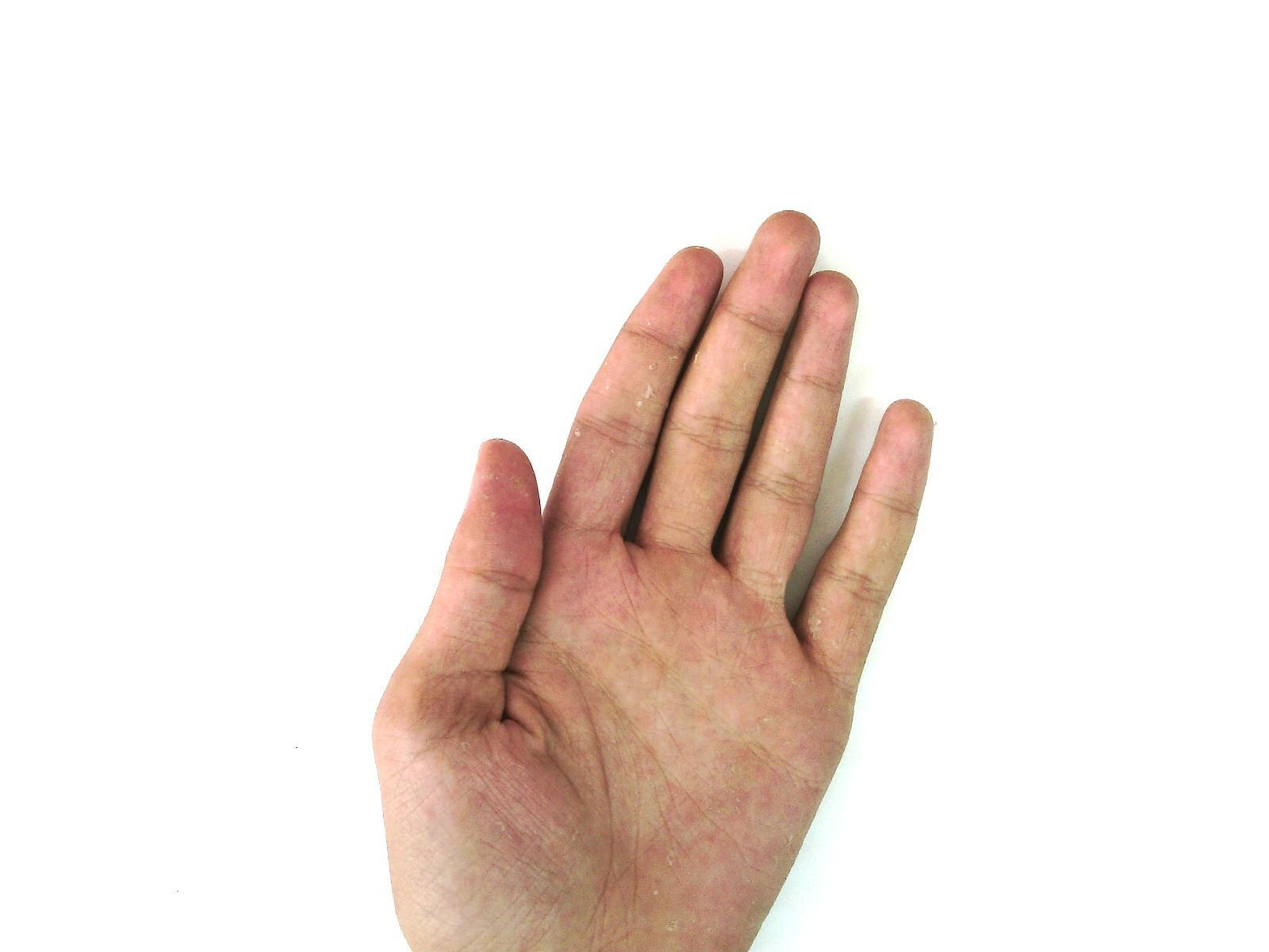open_palm: (370, 209, 938, 951)
